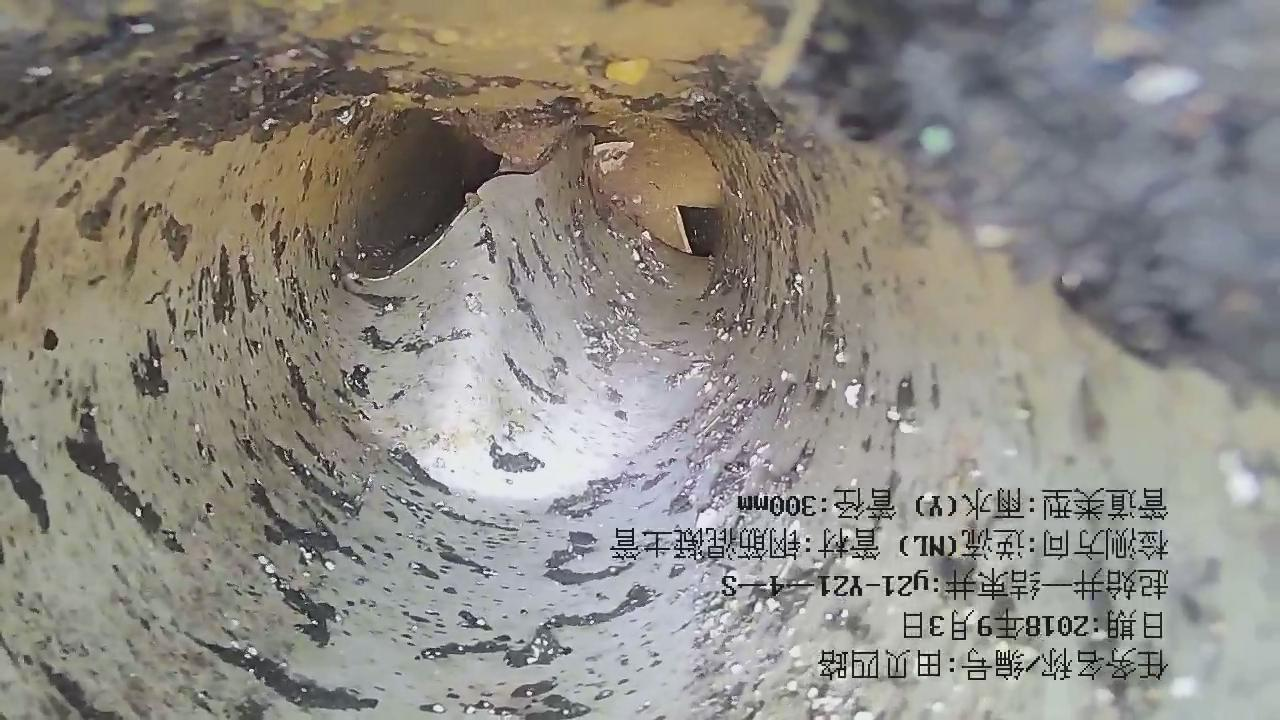BX: (292, 152, 737, 479)
PL: (665, 191, 724, 268)
